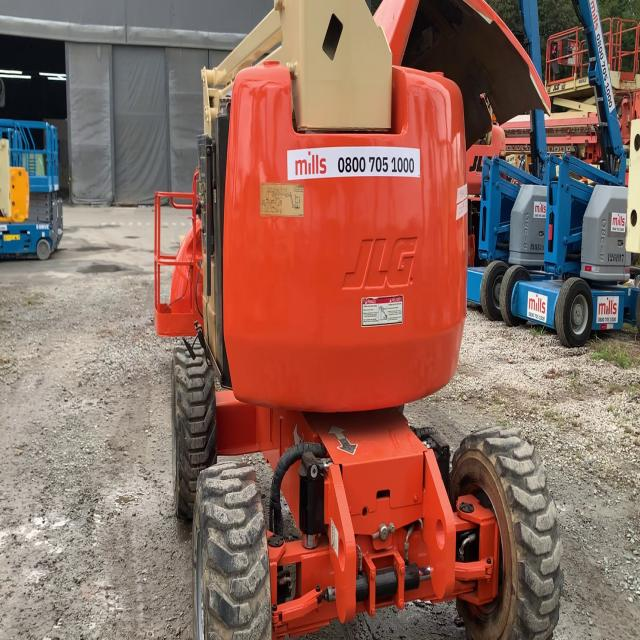Adesivo Longo: (287, 146, 421, 182), (589, 0, 616, 115)
Adesivos: (527, 290, 548, 324), (596, 296, 619, 325), (610, 212, 627, 233), (534, 201, 547, 219)
